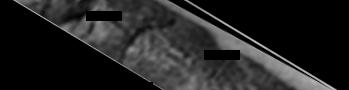dog_poop: (3, 0, 347, 89)
